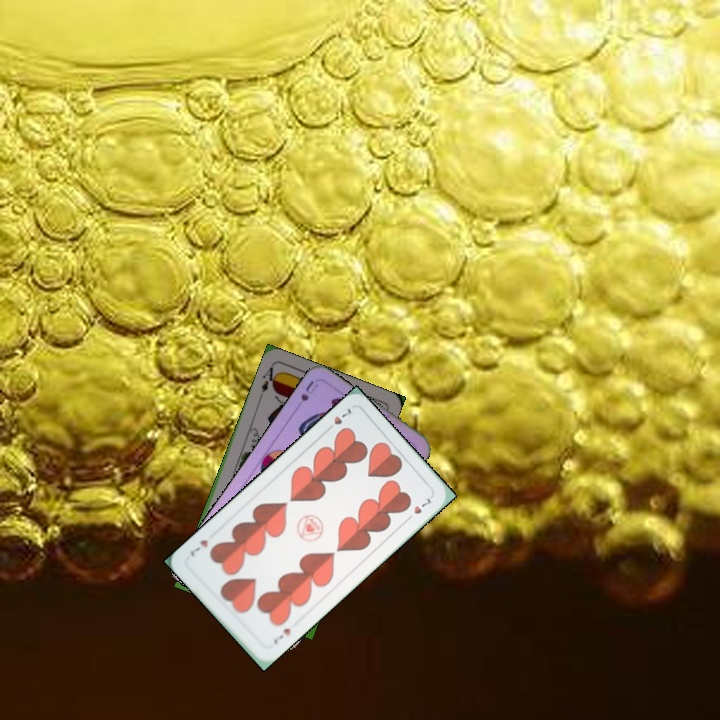EA: (257, 362, 280, 395)
H7: (321, 404, 354, 435), (269, 624, 294, 647)
SU: (291, 377, 321, 413)
